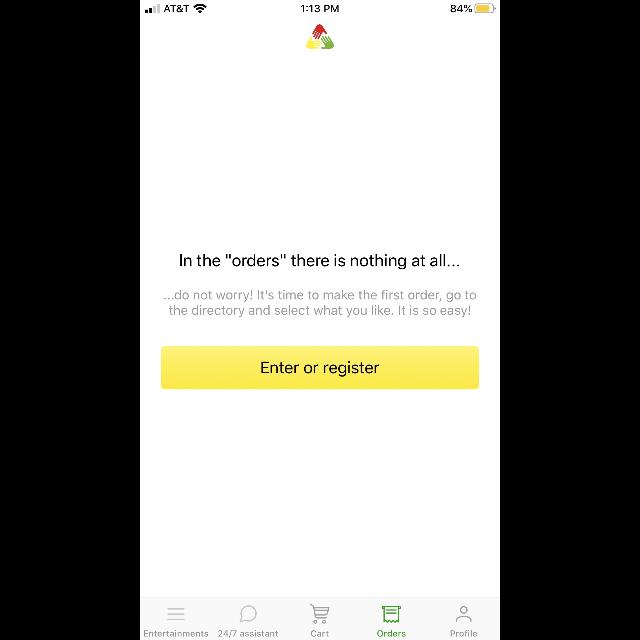icon: (310, 604, 330, 624), (381, 606, 401, 622), (456, 606, 472, 622), (240, 606, 256, 622), (168, 608, 185, 620)
image: (306, 25, 334, 49)
text: (164, 290, 476, 318), (180, 254, 460, 270), (218, 630, 278, 638), (144, 630, 208, 636), (377, 630, 405, 636), (451, 630, 477, 636), (311, 630, 329, 636)
textbutton: (161, 346, 479, 389)
uppertaskbar: (140, 0, 500, 14)
